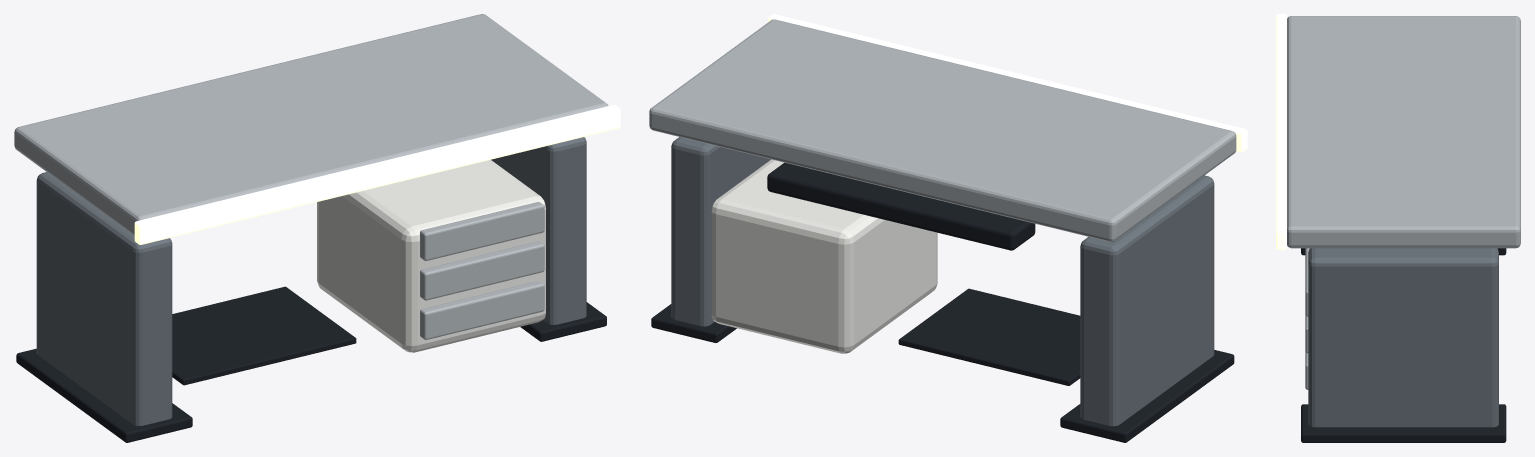
Rendered from prop_worktower_health_desk_a_v01.glb.
3 renders of one model, left to right at view 1: azimuth 30°, elevation 25°; view 2: azimuth 150°, elevation 25°; view 3: azimuth 270°, elevation 25°, orthographic. The views are drawn at different scales.
Visible parts, largest first — view 1: component__work_surface__work_surface, component__load_bearing_legs_or_pedestal__load_bearing_leg.0, component__storage__storage, component__edge_trim__edge_trim, component__equipment_clearance__equipment_clearance, component__load_bearing_legs_or_pedestal__load_bearing_leg, component__storage__drawer.002, component__storage__drawer, component__storage__drawer.001, component__load_bearing_legs_or_pedestal__floor_glide.001, component__load_bearing_legs_or_pedestal__floor_glide; view 2: component__work_surface__work_surface, component__storage__storage, component__load_bearing_legs_or_pedestal__load_bearing_leg.0, component__equipment_clearance__equipment_clearance, component__load_bearing_legs_or_pedestal__load_bearing_leg, component__cable_management__cable_management, component__load_bearing_legs_or_pedestal__floor_glide.001, component__edge_trim__edge_trim, component__load_bearing_legs_or_pedestal__floor_glide; view 3: component__work_surface__work_surface, component__load_bearing_legs_or_pedestal__load_bearing_leg, component__load_bearing_legs_or_pedestal__floor_glide, component__edge_trim__edge_trim, component__storage__drawer.
Part boxes in pixels (x1,y1,x2,y2): component__work_surface__work_surface: [14, 14, 608, 235]; component__load_bearing_legs_or_pedestal__load_bearing_leg.0: [36, 172, 172, 425]; component__storage__storage: [317, 159, 545, 352]; component__edge_trim__edge_trim: [134, 104, 620, 244]; component__equipment_clearance__equipment_clearance: [172, 286, 356, 385]; component__load_bearing_legs_or_pedestal__load_bearing_leg: [491, 137, 586, 324]; component__storage__drawer.002: [420, 241, 544, 300]; component__storage__drawer: [420, 202, 544, 260]; component__storage__drawer.001: [420, 281, 544, 339]; component__load_bearing_legs_or_pedestal__floor_glide.001: [16, 348, 192, 442]; component__load_bearing_legs_or_pedestal__floor_glide: [520, 302, 606, 341]; component__work_surface__work_surface: [649, 19, 1236, 241]; component__storage__storage: [711, 159, 937, 353]; component__load_bearing_legs_or_pedestal__load_bearing_leg.0: [1080, 175, 1214, 426]; component__equipment_clearance__equipment_clearance: [898, 288, 1080, 385]; component__load_bearing_legs_or_pedestal__load_bearing_leg: [671, 137, 770, 326]; component__cable_management__cable_management: [767, 162, 1035, 250]; component__load_bearing_legs_or_pedestal__floor_glide.001: [1060, 350, 1234, 442]; component__edge_trim__edge_trim: [768, 14, 1247, 152]; component__load_bearing_legs_or_pedestal__floor_glide: [651, 304, 736, 342]; component__work_surface__work_surface: [1287, 16, 1520, 248]; component__load_bearing_legs_or_pedestal__load_bearing_leg: [1308, 248, 1498, 427]; component__load_bearing_legs_or_pedestal__floor_glide: [1301, 404, 1506, 442]; component__edge_trim__edge_trim: [1276, 14, 1286, 249]; component__storage__drawer: [1305, 248, 1309, 316].
Bounding box in the file's own units: 1.65 × 0.7524 × 0.7819.
